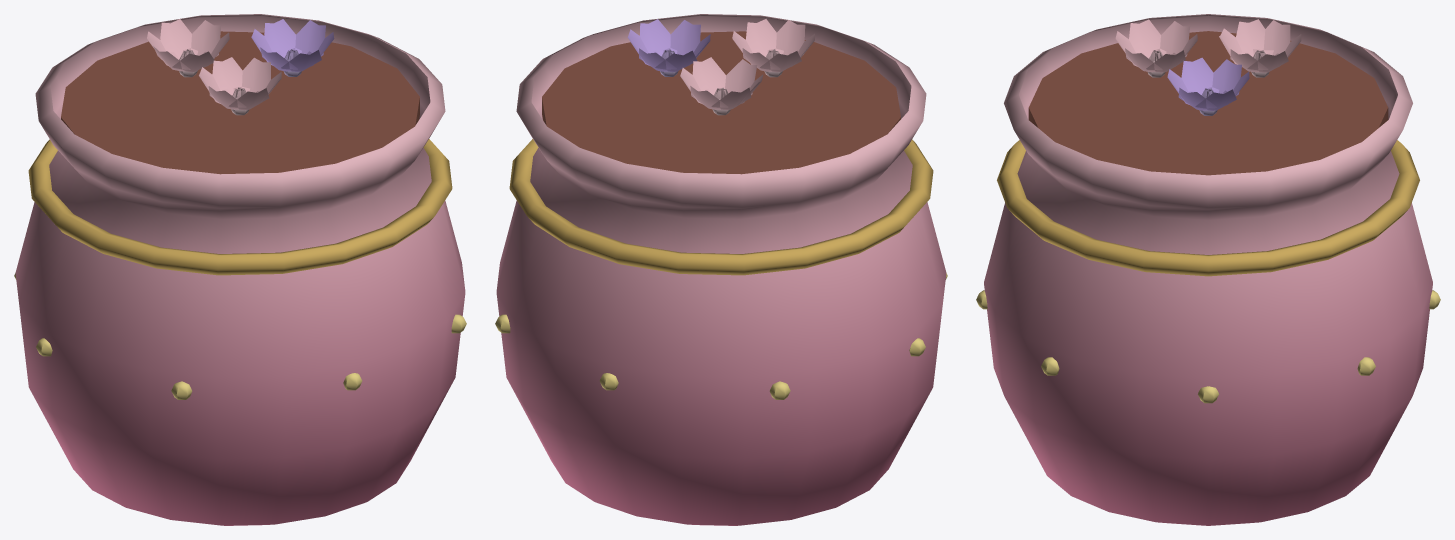
File: pot_glazed.glb
3 views of the same model, side by side, from view 1: azimuth 30°, elevation 25°; view 2: azimuth 150°, elevation 25°; view 3: azimuth 270°, elevation 25° (orthographic).
Visible parts, largest first — view 1: pot_glazed; view 2: pot_glazed; view 3: pot_glazed.
Part boxes in pixels (<box>): pot_glazed: <box>14,14,466,525</box>; pot_glazed: <box>495,14,947,525</box>; pot_glazed: <box>976,14,1440,525</box>.
Size of what is drawn, in the model's own units: 0.46 by 0.46 by 0.46.
